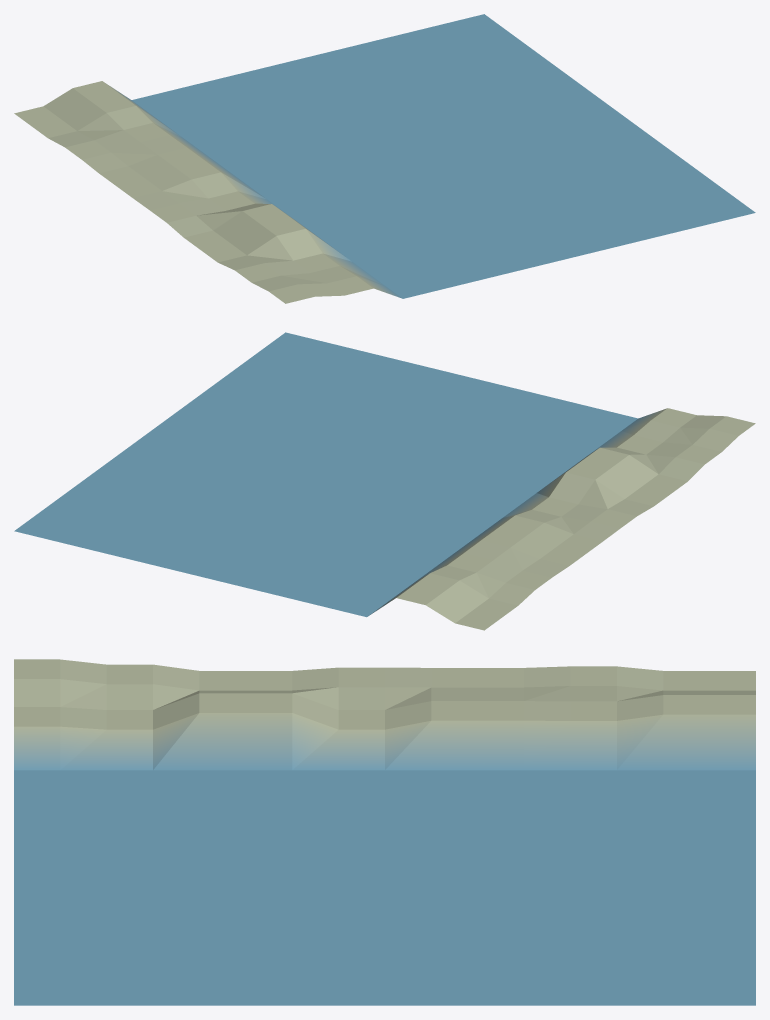
3 renders of one model, top to bottom at view 1: azimuth 30°, elevation 25°; view 2: azimuth 150°, elevation 25°; view 3: azimuth 270°, elevation 25°, orthographic. The views are drawn at different scales.
Size of the model in its own units: 32 by 1.8 by 32.
